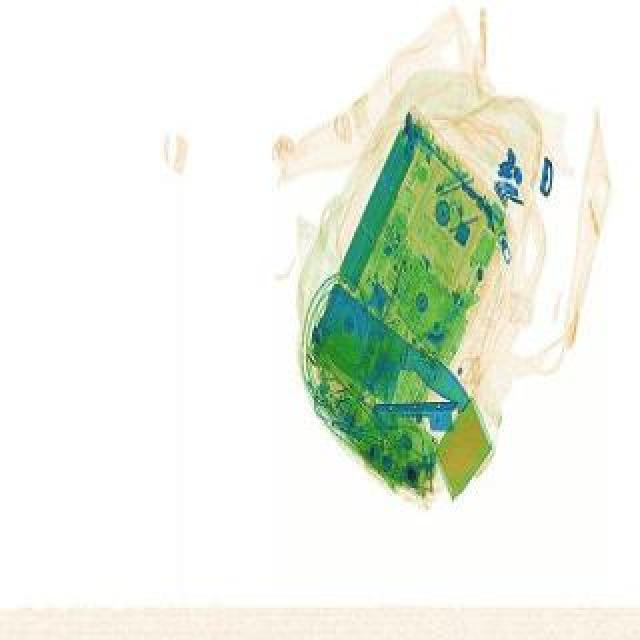knife: (292, 280, 478, 436)
